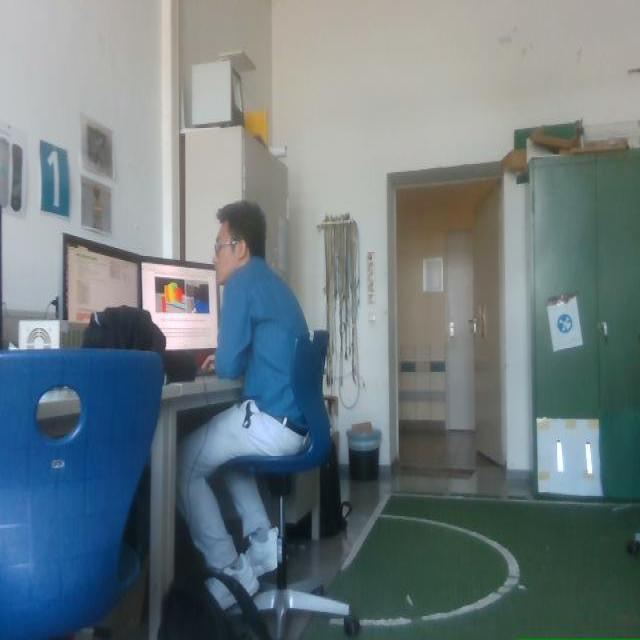humans: (177, 202, 307, 594)
objects: (0, 350, 162, 639), (228, 331, 359, 639), (229, 331, 359, 639), (61, 234, 218, 382), (157, 515, 271, 639), (140, 256, 218, 381), (83, 306, 197, 382), (82, 306, 194, 382), (157, 568, 270, 639), (82, 306, 174, 381), (82, 306, 165, 379), (157, 587, 233, 639), (83, 306, 165, 354), (320, 443, 351, 537), (163, 351, 197, 382), (627, 532, 639, 555)
